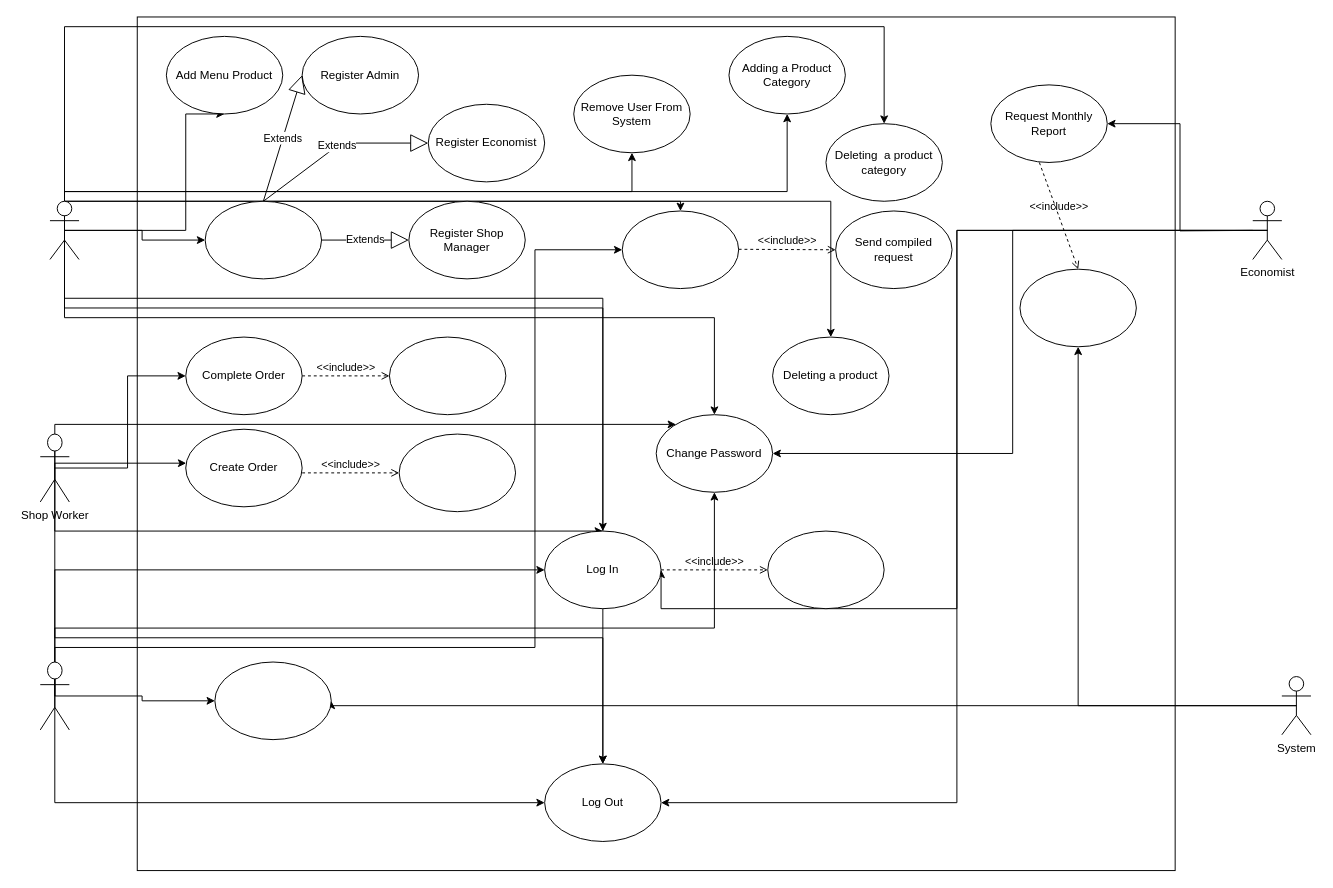
Image size: 1333x888. Some labels were removed from this diagram. Here are the shapes that lost their labels. From the top down, the centre of each, then its label:
the point at 64,229: Administrator
the point at 263,239: Register User
the point at 680,249: Request Supplies
the point at 1077,307: Auto-compile report
the point at 447,375: Subtract amount of menu items used
the point at 457,472: Add menu items constituting order
the point at 825,569: Log in reprompt
the point at 54,695: Shop Manager
the point at 272,700: Create Report
